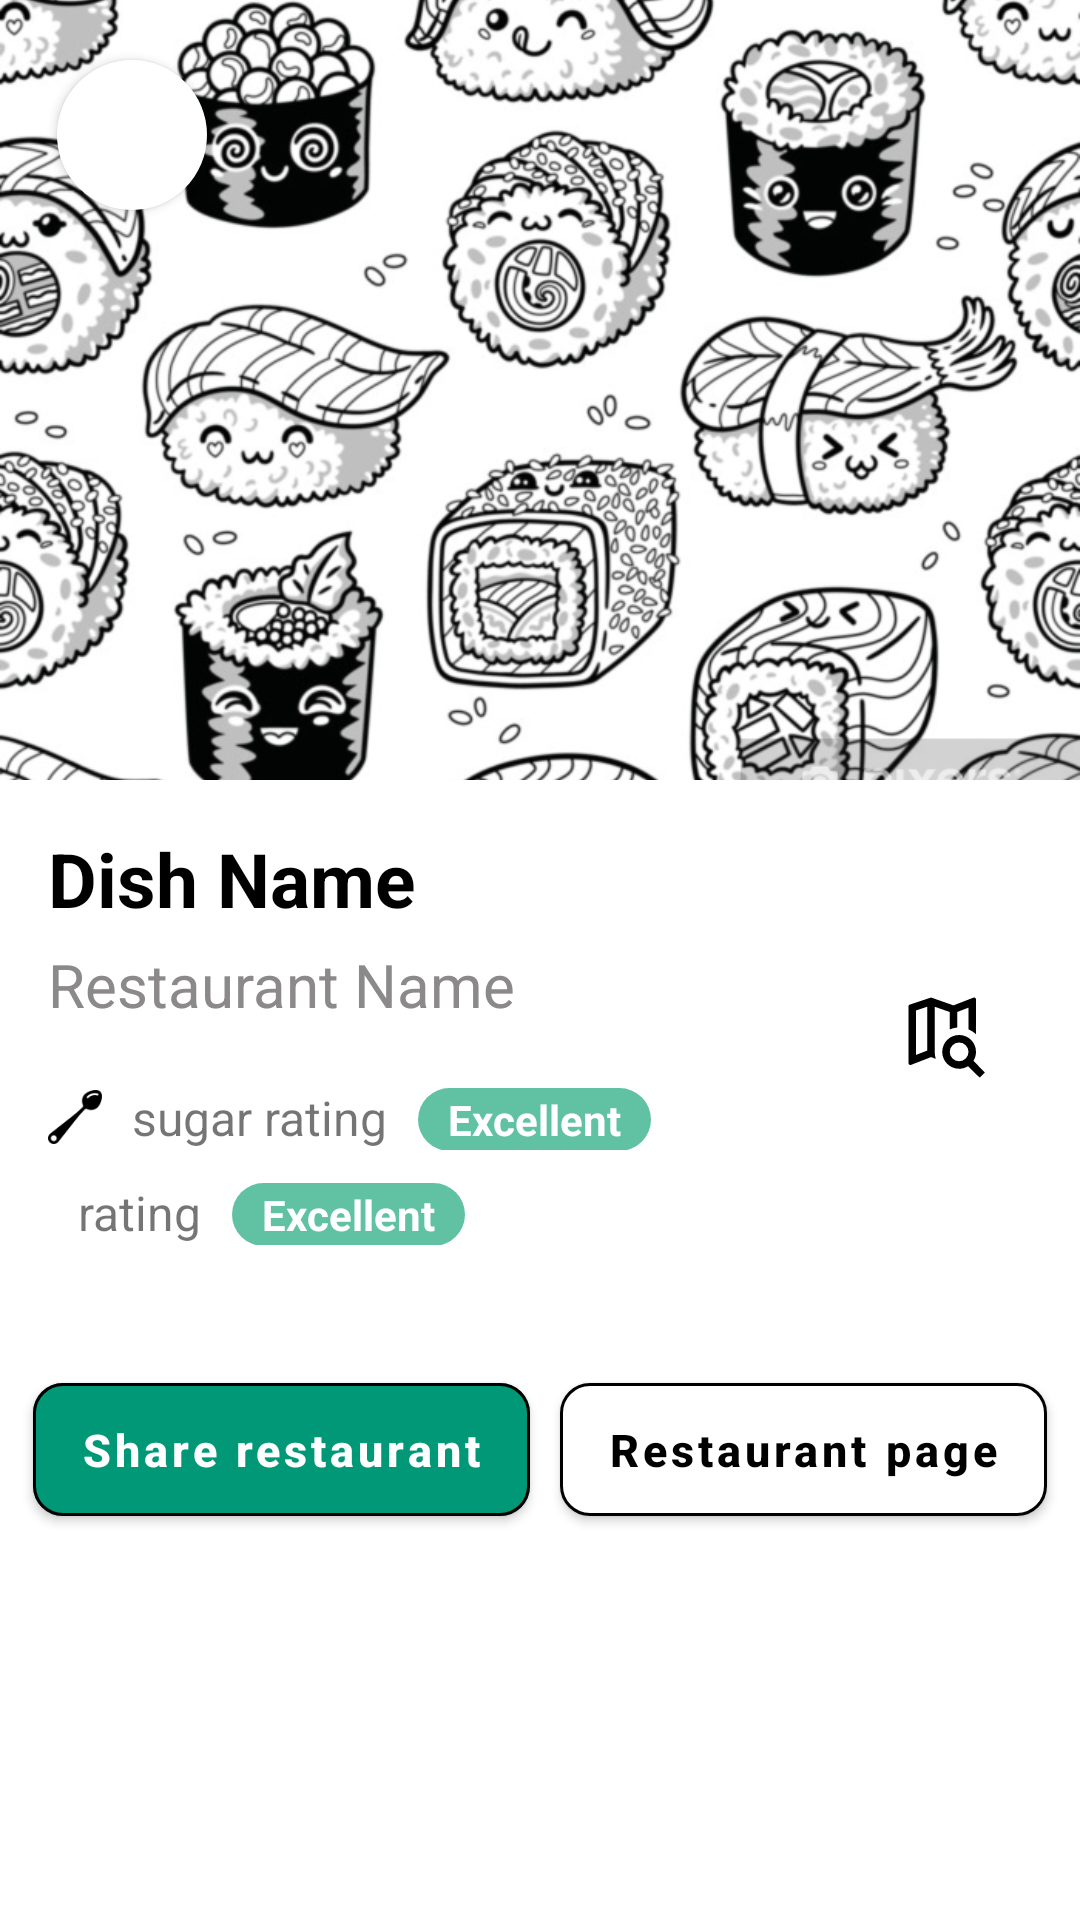

Screen size 1080*1920. Icon name, then its box in pixels as [x1, y1, x2, y2]:
map search: [908, 997, 985, 1078]
spoon: [48, 1090, 102, 1144]
